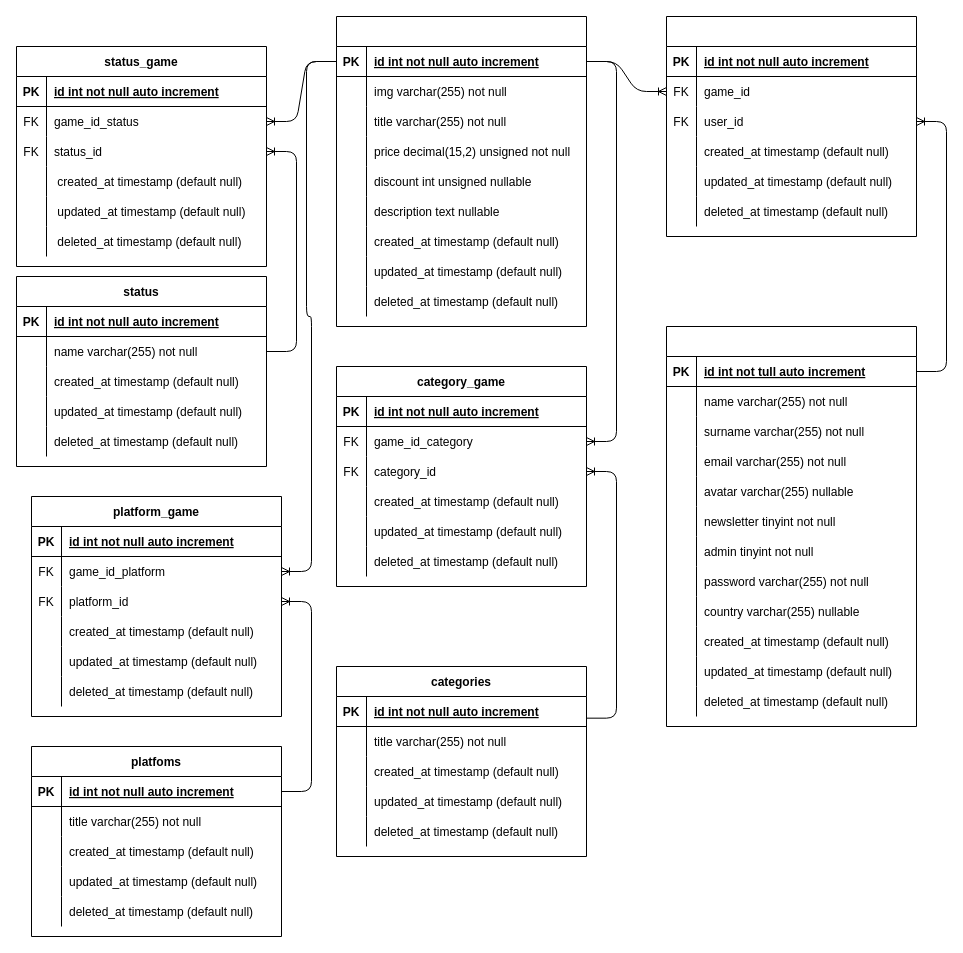
This 963x953 diagram has some shape labels left out. Each missing label, with the box of its shape:
games: (336, 16, 586, 326)
user_game: (666, 16, 916, 236)
users: (666, 326, 916, 726)
